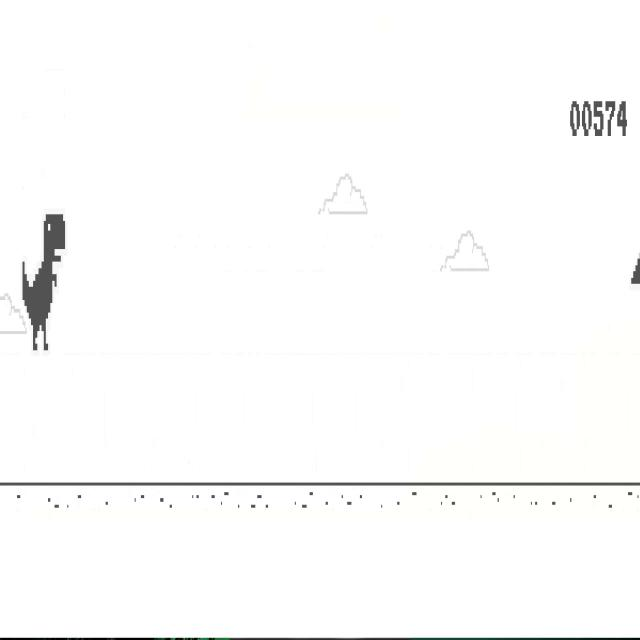dino: (22, 212, 66, 353)
ptero: (630, 249, 640, 289)
